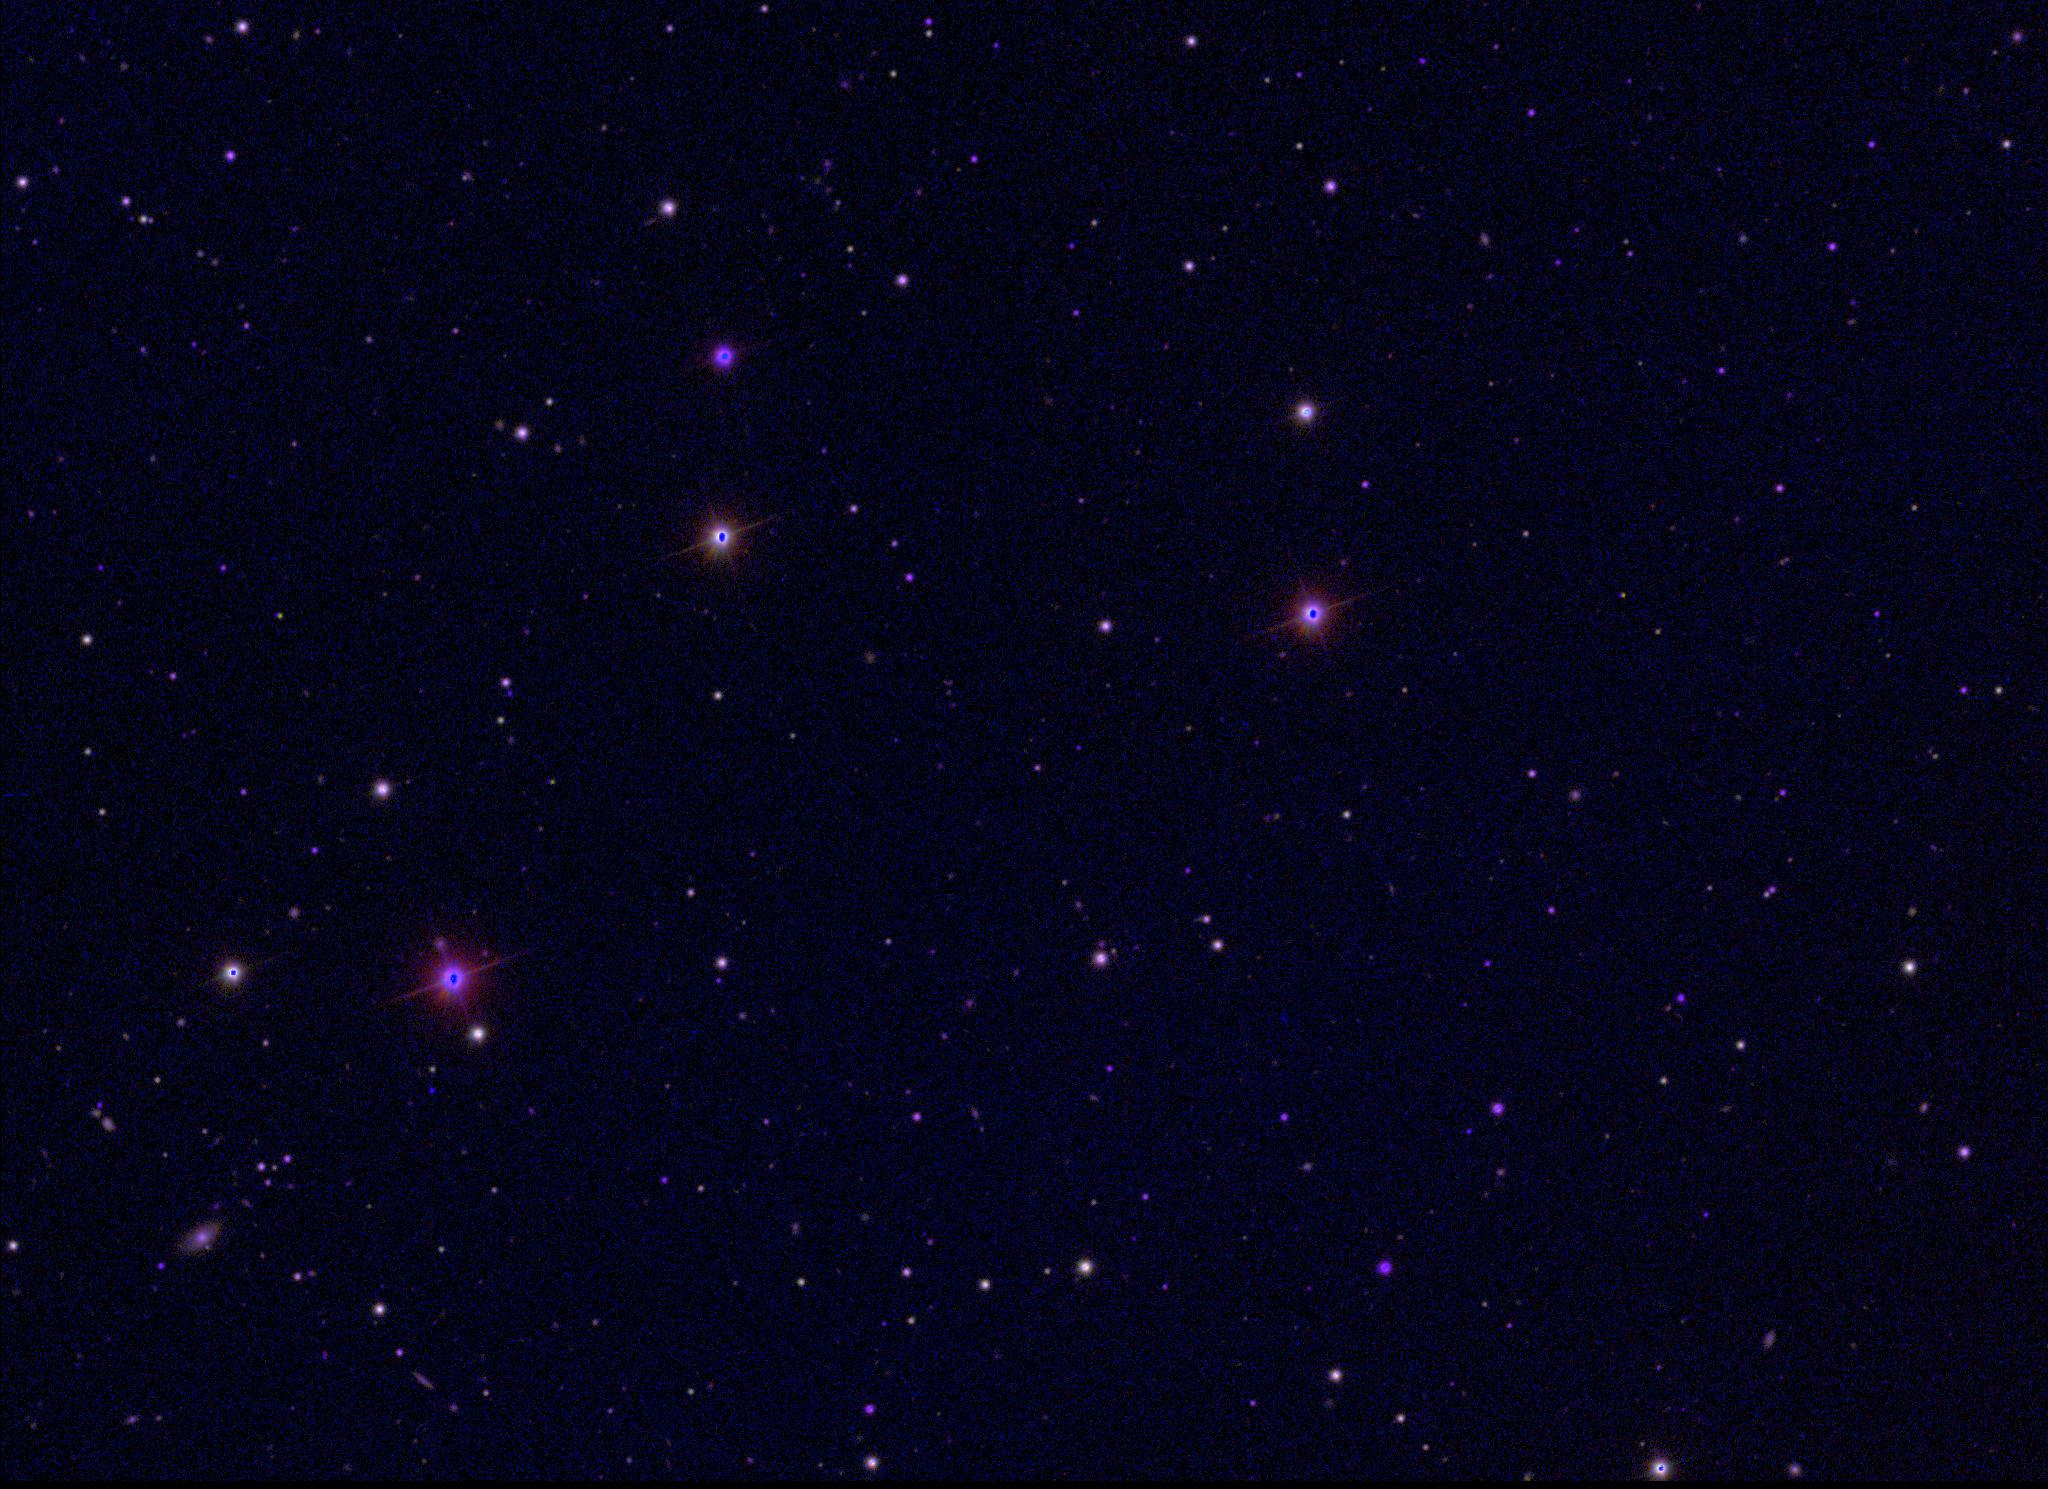L: (426, 1087, 440, 1099)
